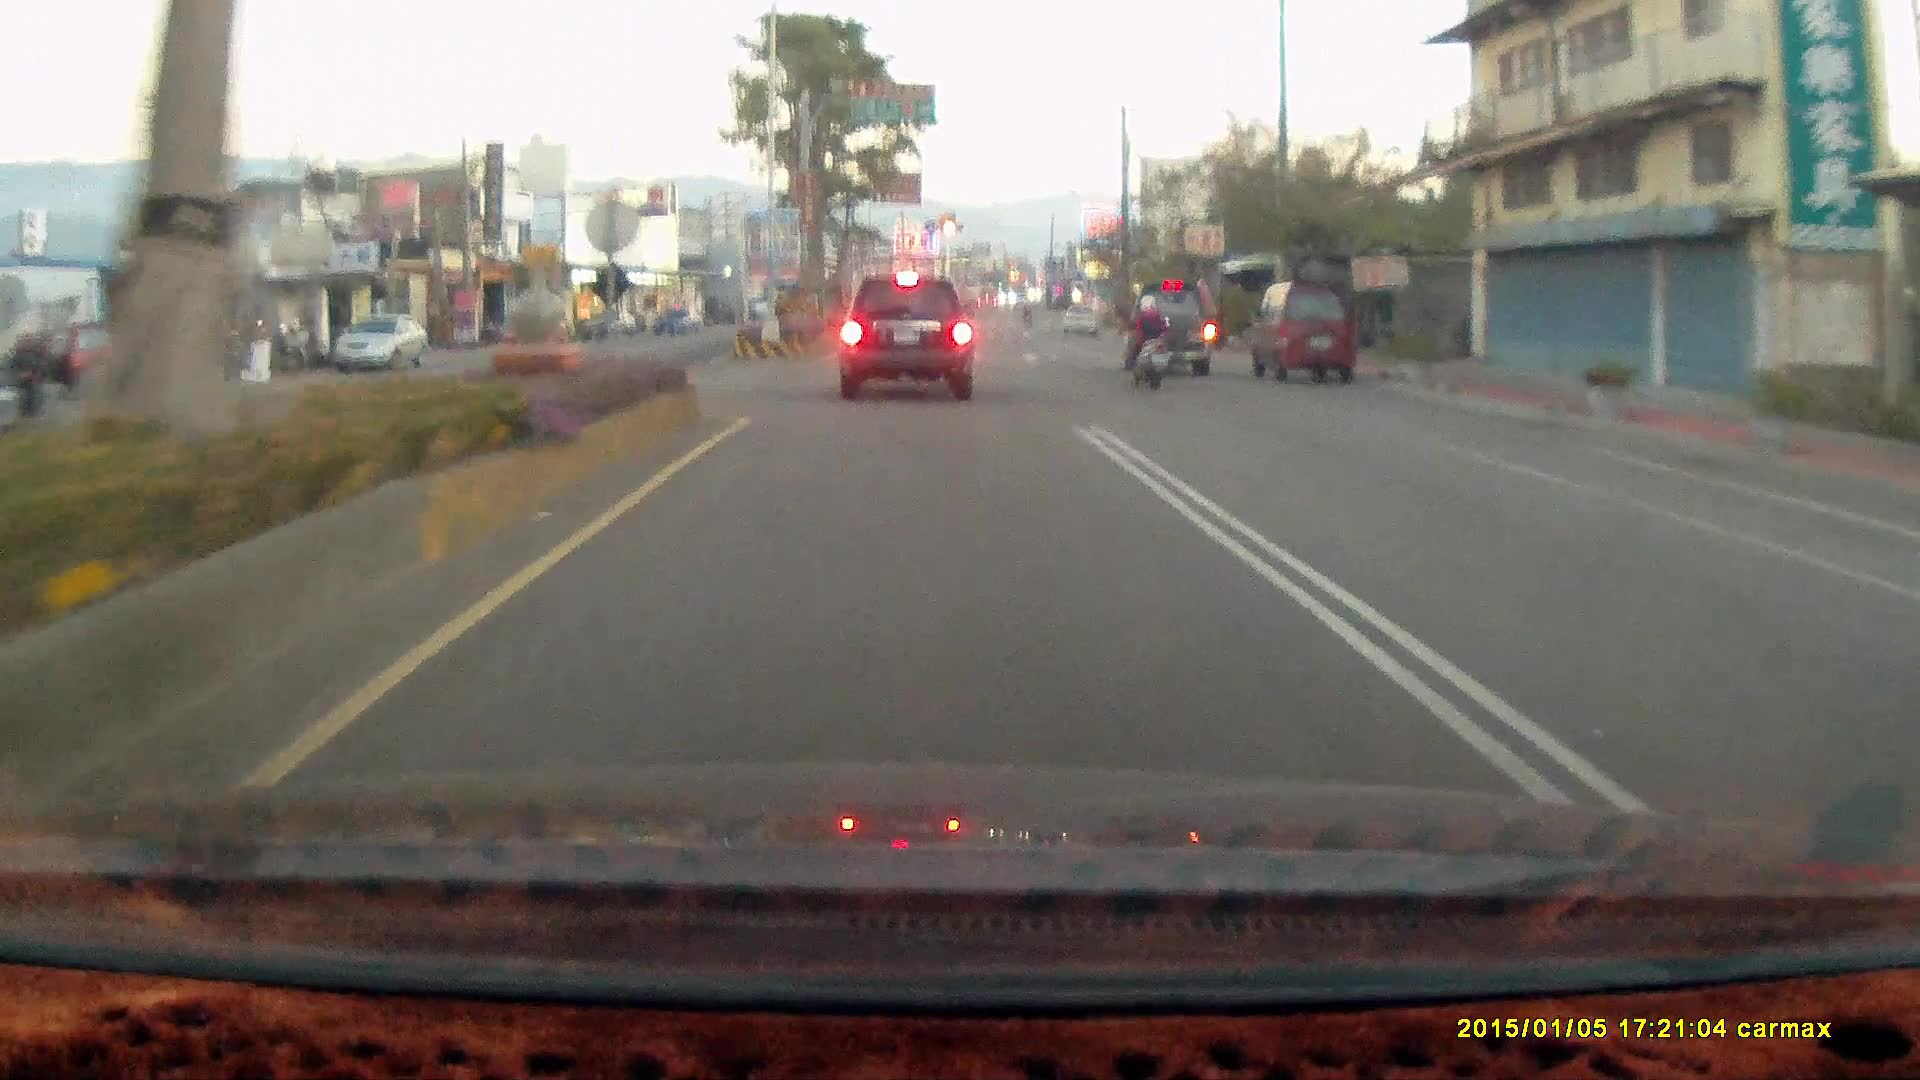rider: (0, 321, 71, 445), (1115, 287, 1181, 397), (1121, 293, 1172, 390)
vehicle: (831, 270, 986, 399), (837, 274, 975, 400), (1255, 281, 1363, 390), (1248, 279, 1357, 383), (1120, 281, 1227, 374), (1122, 278, 1212, 375), (332, 313, 429, 377), (333, 313, 428, 372)
